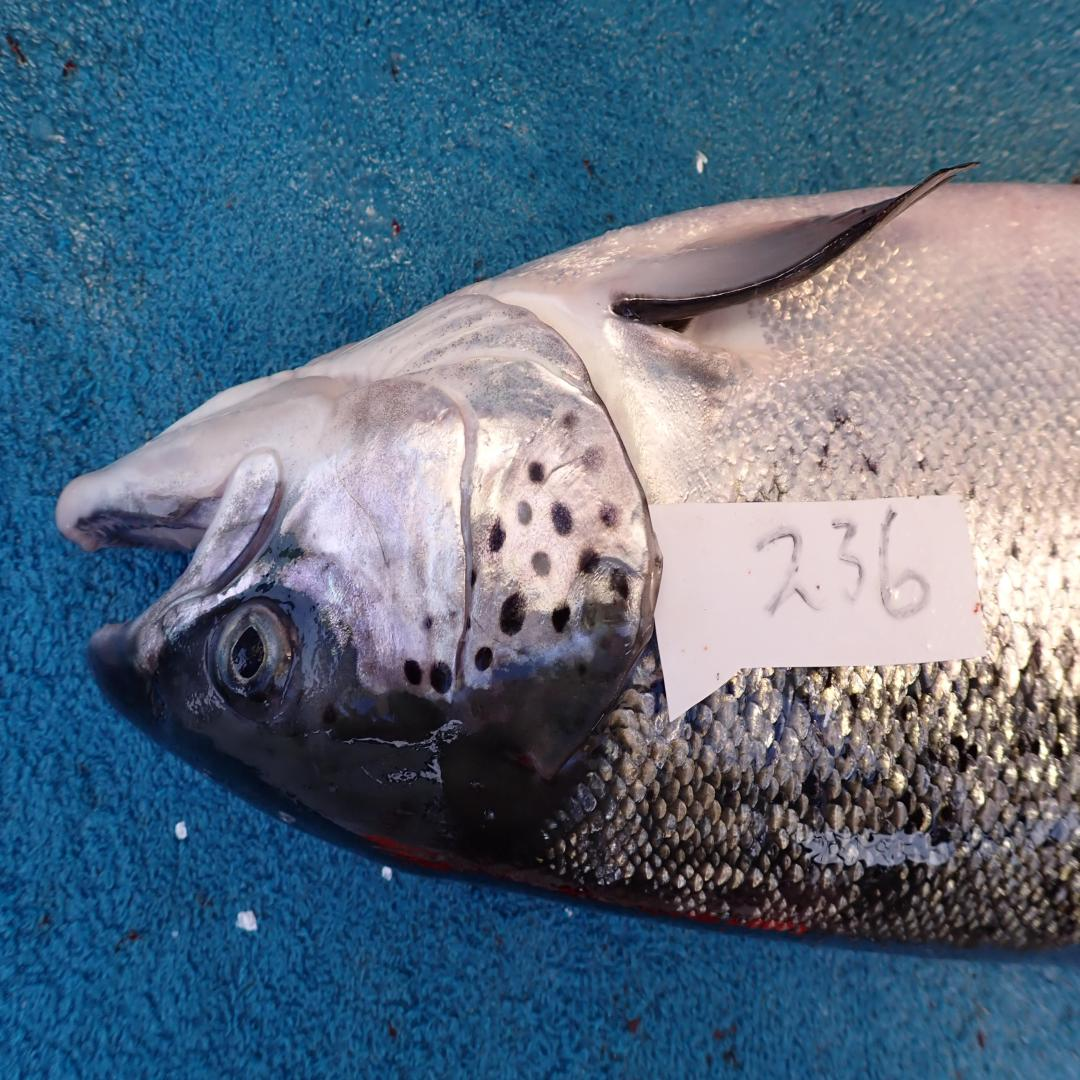spot: (500, 593, 525, 636), (580, 602, 608, 633), (430, 661, 451, 695), (551, 503, 574, 534), (610, 568, 631, 599), (582, 444, 603, 472), (578, 548, 599, 574), (403, 658, 422, 686), (551, 605, 570, 633), (489, 520, 506, 551), (532, 551, 551, 577), (599, 503, 618, 529), (475, 647, 494, 672), (517, 501, 532, 526), (561, 411, 580, 430), (529, 461, 544, 484), (468, 568, 479, 591), (422, 616, 435, 630), (449, 609, 460, 620), (466, 617, 472, 630)
